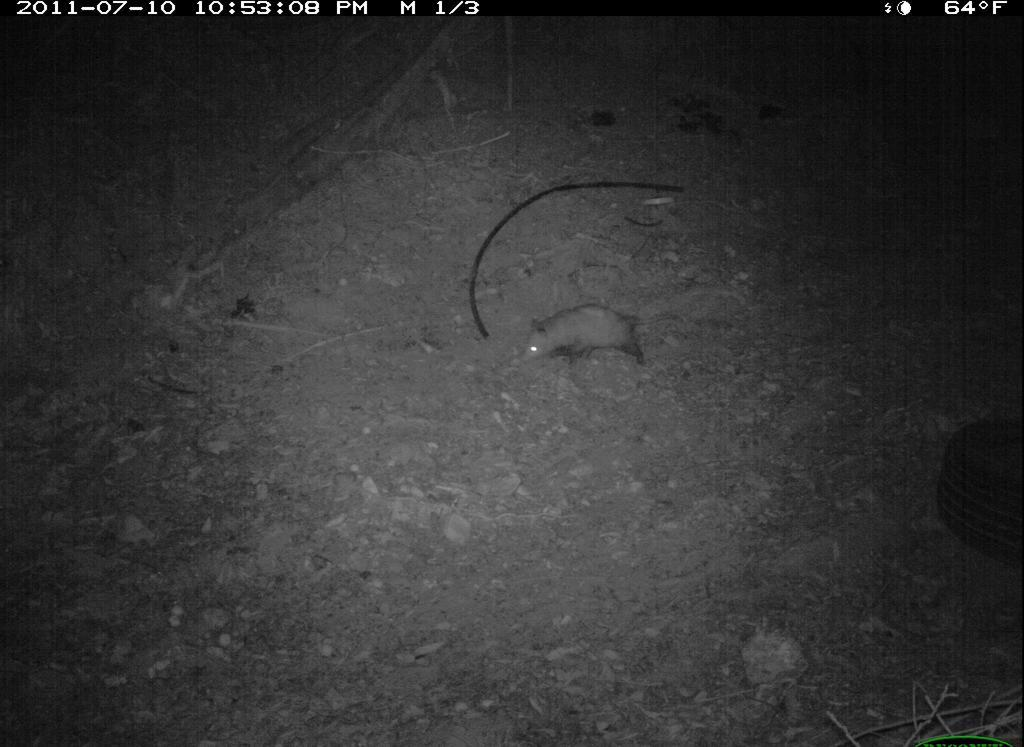opossum: (518, 301, 685, 373)
